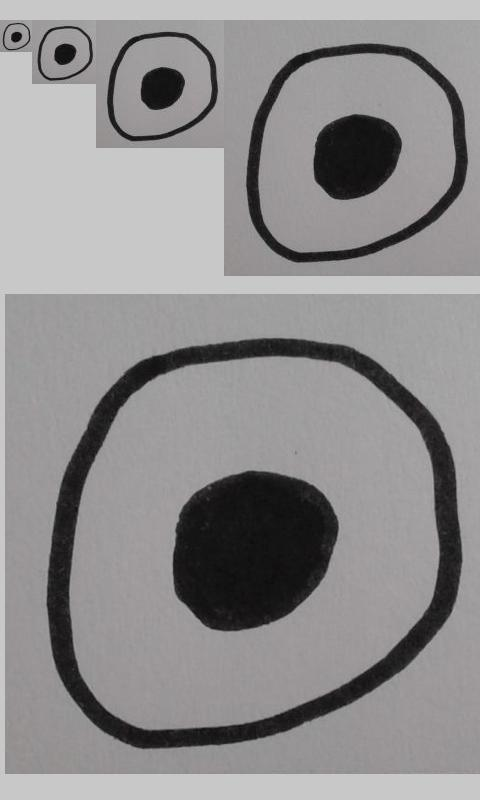radio_button: (46, 337, 464, 751), (246, 42, 468, 264), (106, 30, 219, 143), (37, 25, 93, 81), (2, 22, 31, 51)
